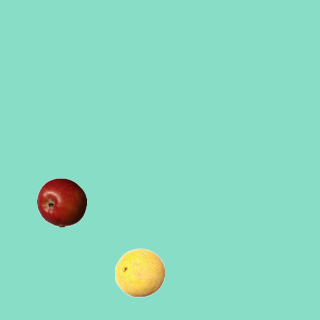Apple Braeburn: (36, 177, 86, 227)
Cantaloupe 1: (114, 247, 164, 297)
